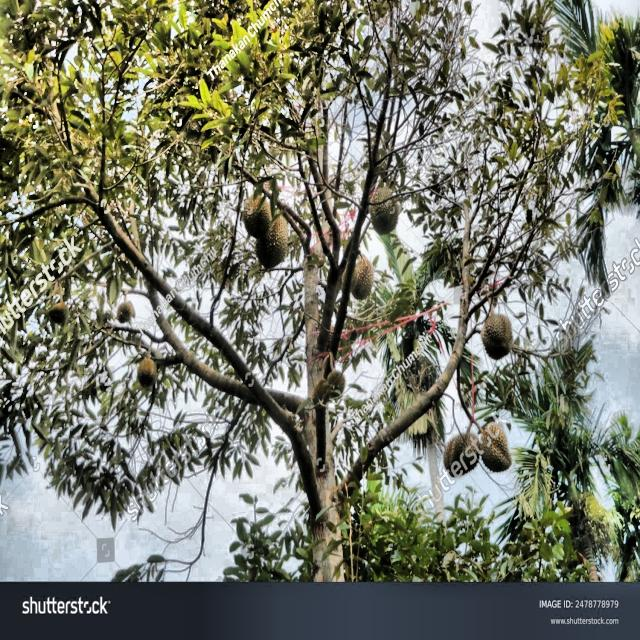arvore: (287, 199, 364, 581)
